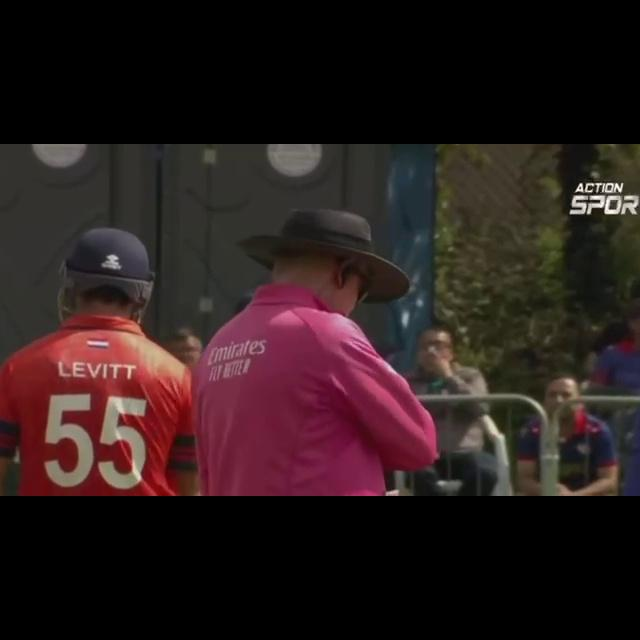umpire: (182, 187, 475, 496)
